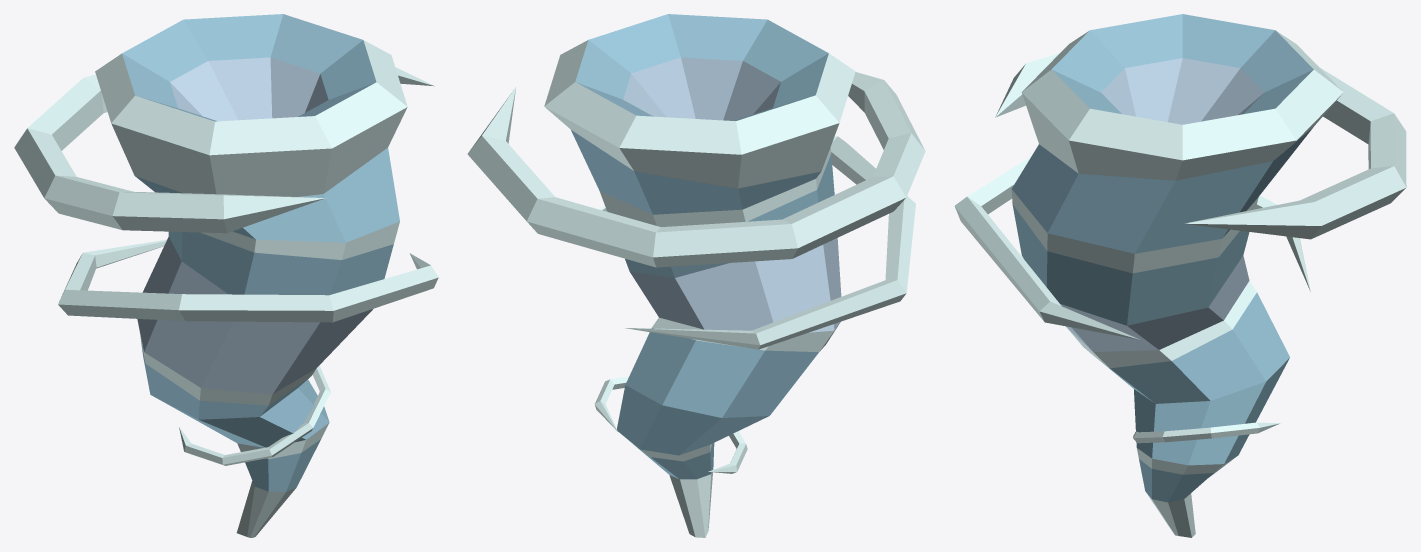
File: Whirlwind.fbx
3 views of the same model, side by side, from view 1: azimuth 30°, elevation 25°; view 2: azimuth 150°, elevation 25°; view 3: azimuth 270°, elevation 25° (orthographic).
Visible parts, largest first — view 1: Whirlwind:Mesh; view 2: Whirlwind:Mesh; view 3: Whirlwind:Mesh.
Boxes of the visible parts, x1=… form: Whirlwind:Mesh: x1=14, y1=14, x2=438, y2=537; Whirlwind:Mesh: x1=467, y1=14, x2=925, y2=537; Whirlwind:Mesh: x1=954, y1=14, x2=1406, y2=537.
Size of the model in its own units: 1.68 by 1.91 by 1.69.
